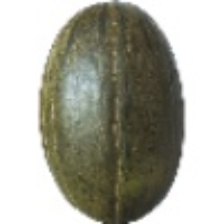honeydew: (24, 11, 211, 197)
